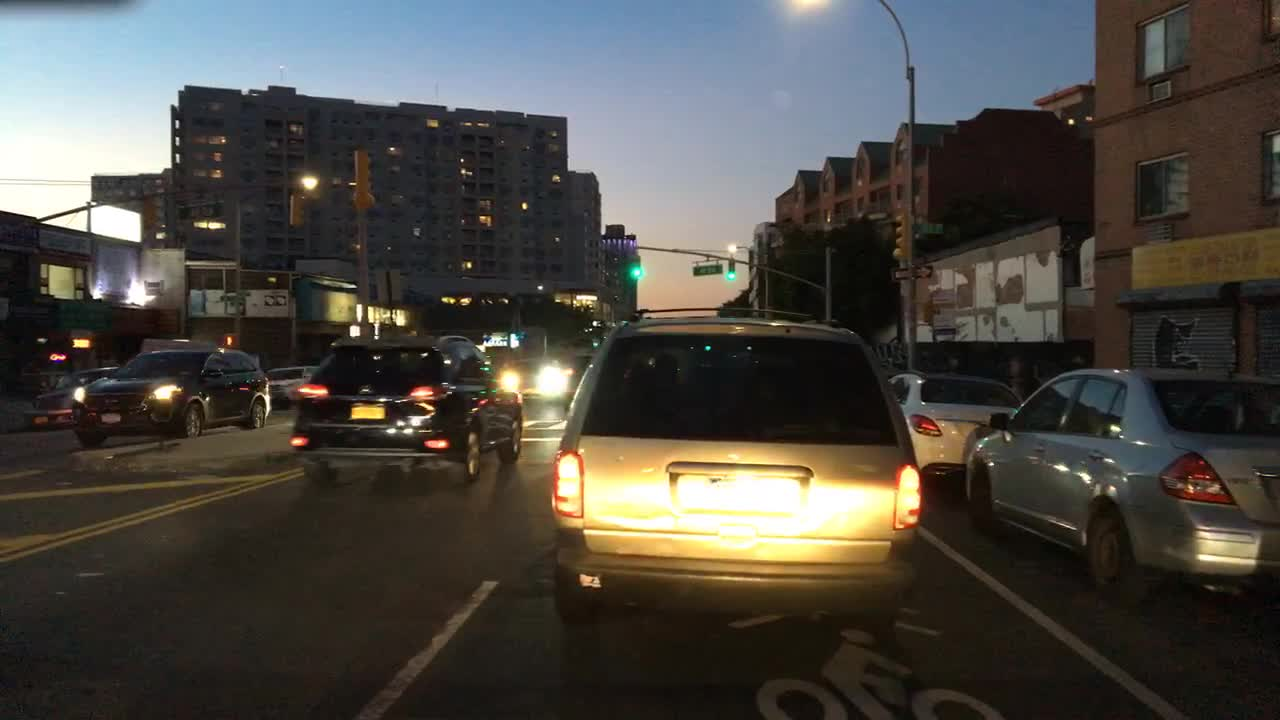car: (549, 304, 928, 629), (966, 365, 1278, 609), (287, 331, 522, 487), (68, 345, 272, 450), (886, 368, 1026, 492), (30, 365, 120, 430), (499, 352, 586, 403), (264, 365, 323, 409)
traffic light: (354, 149, 373, 209), (289, 191, 307, 227), (629, 253, 641, 279), (347, 321, 359, 337), (727, 257, 735, 279), (224, 334, 235, 345)
traffic sign: (895, 263, 933, 278), (910, 221, 946, 233), (691, 264, 723, 274)
